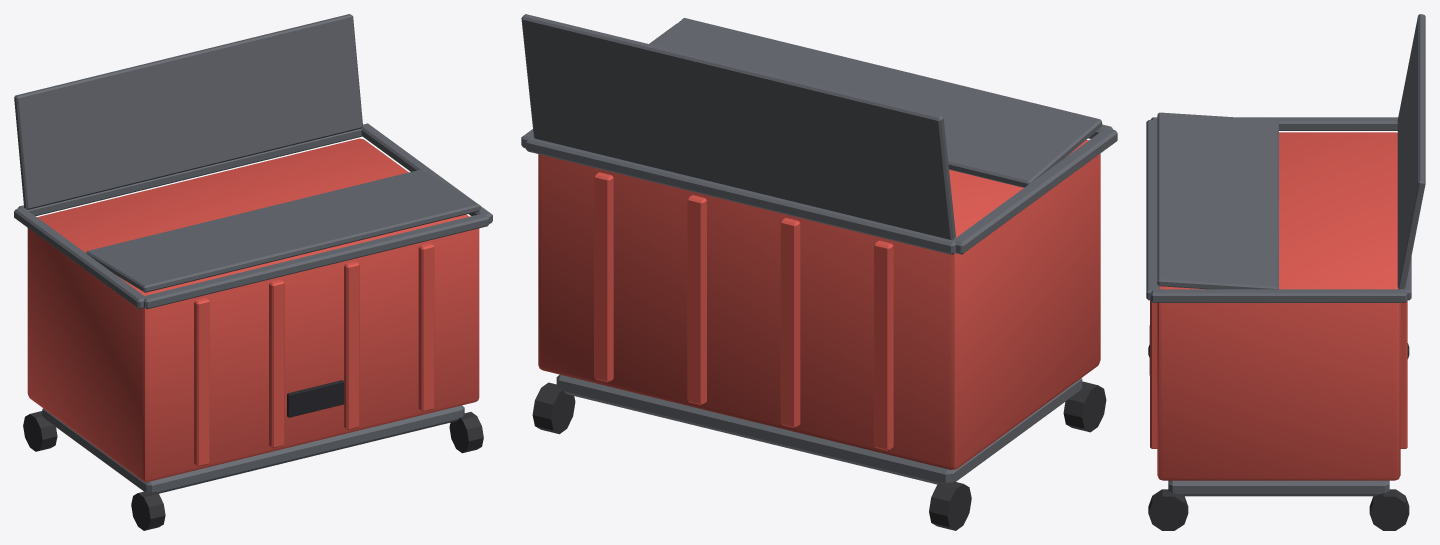
Rendered from Dumpster.fbx.
3 renders of one model, left to right at view 1: azimuth 30°, elevation 25°; view 2: azimuth 150°, elevation 25°; view 3: azimuth 270°, elevation 25°, orthographic. The views are drawn at different scales.
Parts seen in each view (by area): view 1: Dumpster; view 2: Dumpster; view 3: Dumpster.
Part boxes in pixels (x1,y1,x2,y2): Dumpster: (14, 14, 492, 530); Dumpster: (521, 14, 1117, 530); Dumpster: (1146, 14, 1425, 530).
Size of the model in its own units: 1.9 by 1.75 by 1.26.
